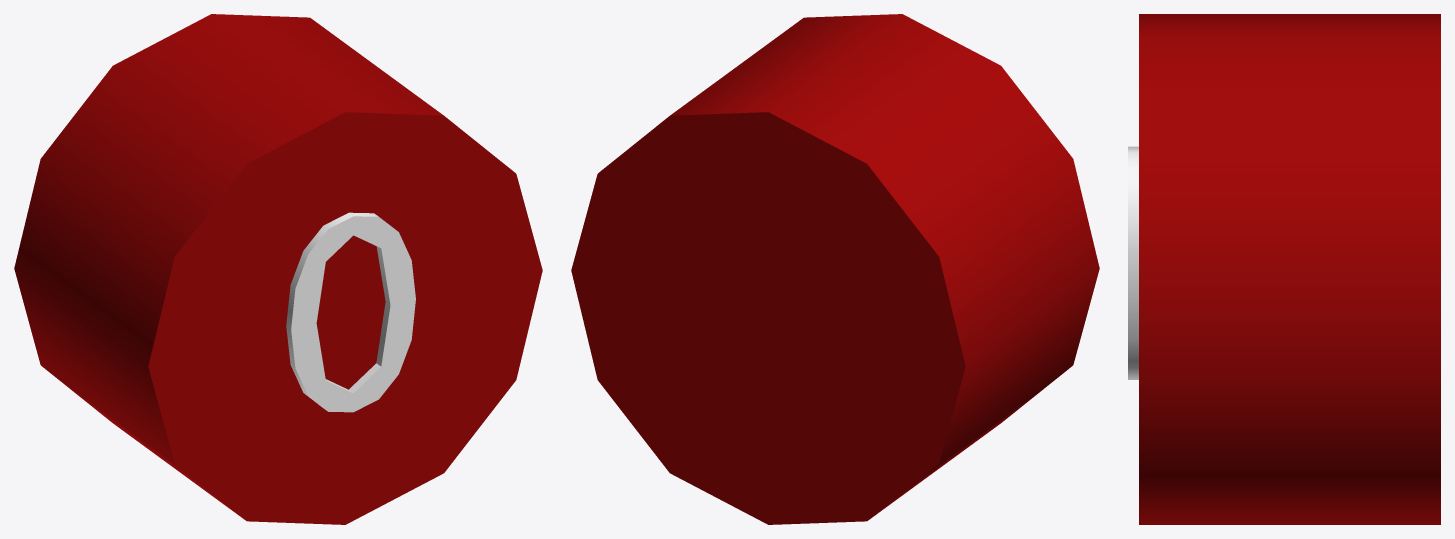
File: acb_inner_btn1.fbx
The picture shows the model from 3 angles, left to right: view 1: azimuth 30°, elevation 25°; view 2: azimuth 150°, elevation 25°; view 3: azimuth 270°, elevation 25°; orthographic projection. The views are drawn at different scales.
Parts seen in each view (by area): view 1: acb_inner_btn; view 2: acb_inner_btn; view 3: acb_inner_btn.
Part boxes in pixels (box(x1,y1,x2,y2)): acb_inner_btn: box(14, 14, 542, 524); acb_inner_btn: box(571, 14, 1099, 524); acb_inner_btn: box(1128, 14, 1440, 524).
Size of the model in its own units: 0.024 by 0.024 by 0.0146.
Materials: 1 (1 with a texture image).
